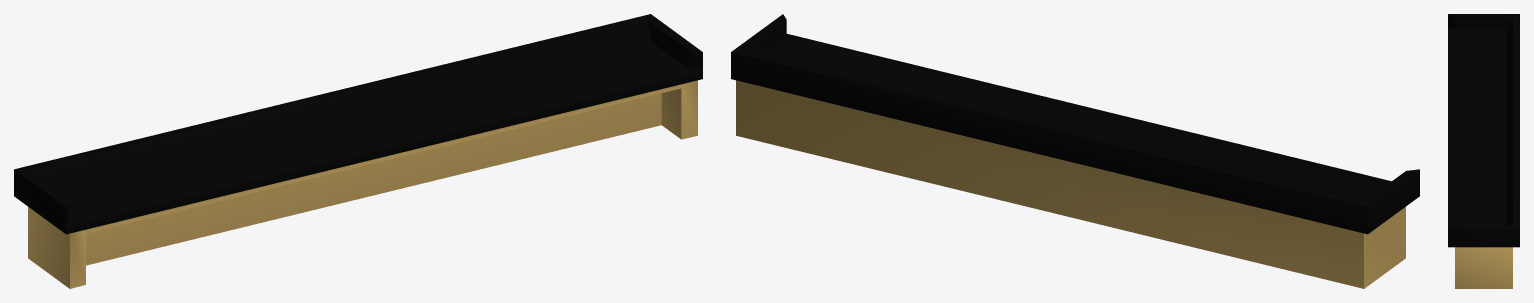
Rendered from SM_Desk.fbx.
3 views of the same model, side by side, from view 1: azimuth 30°, elevation 25°; view 2: azimuth 150°, elevation 25°; view 3: azimuth 270°, elevation 25° (orthographic). The views are drawn at different scales.
Parts seen in each view (by area): view 1: ReceptionistDesk; view 2: ReceptionistDesk; view 3: ReceptionistDesk.
Boxes of the visible parts, x1,y1,x2,y2 form: ReceptionistDesk: (14,14,702,288); ReceptionistDesk: (731,14,1419,288); ReceptionistDesk: (1448,14,1519,288).
Size of the model in its own units: 640 by 84.03 by 90.6.
